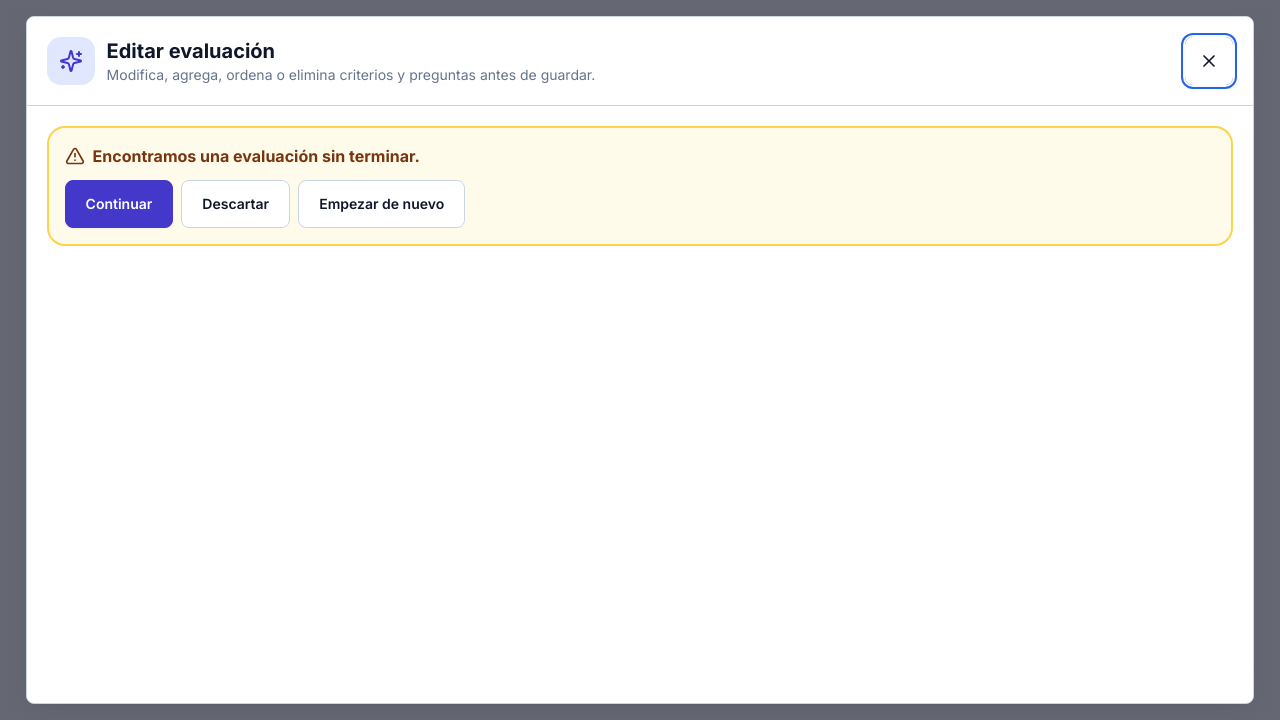
101 restores scoped visual editing without replacing local changes and persists fresh visual edits
Step 1. Click the button "Continuar" → [119, 204], box [65, 180, 173, 228]
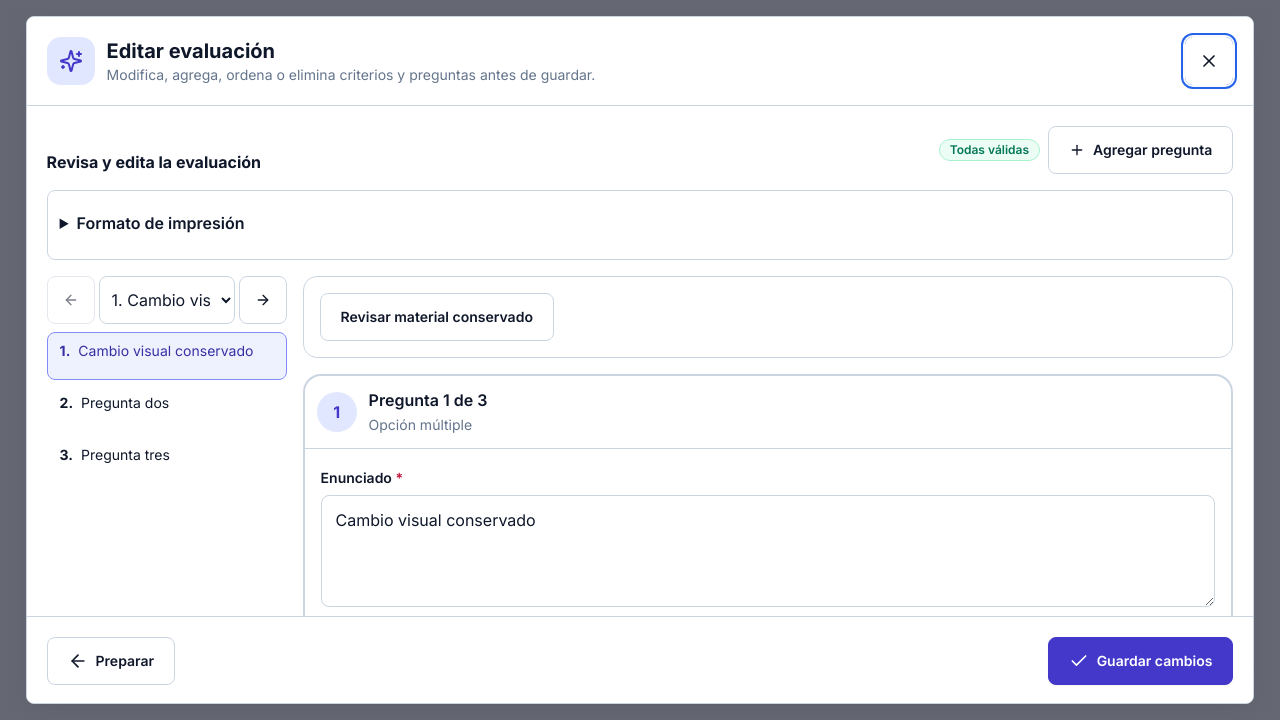
Expected: the text box labelled "Enunciado *" holds "Cambio visual conservado", [321, 495, 1215, 607]
